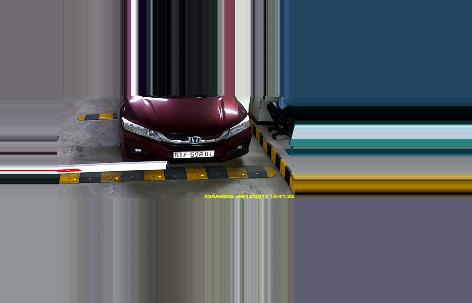License_Plate: (173, 149, 217, 160)
